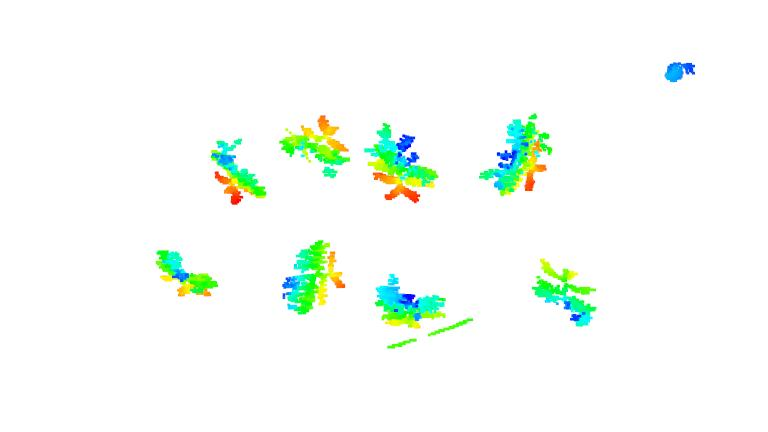chickpea: (365, 121, 440, 205), (482, 112, 553, 198), (280, 237, 345, 315), (528, 256, 597, 328), (205, 138, 271, 208), (280, 114, 350, 179), (377, 269, 448, 329), (155, 245, 219, 300)
